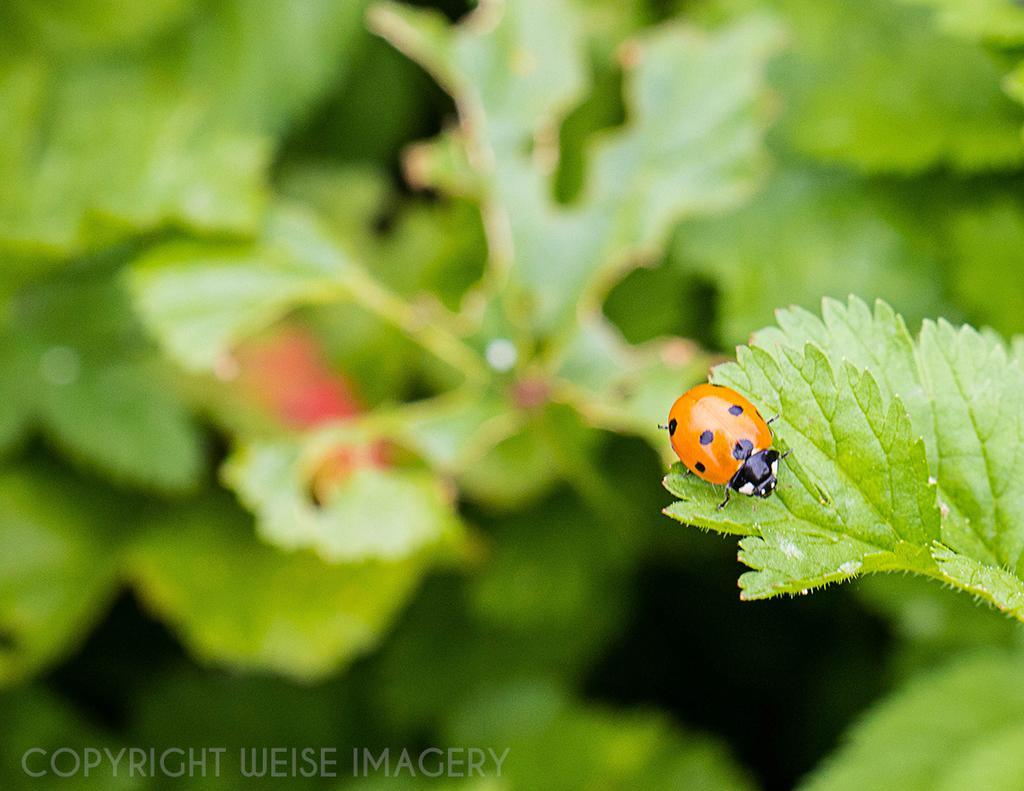ladybug: (653, 373, 799, 515)
